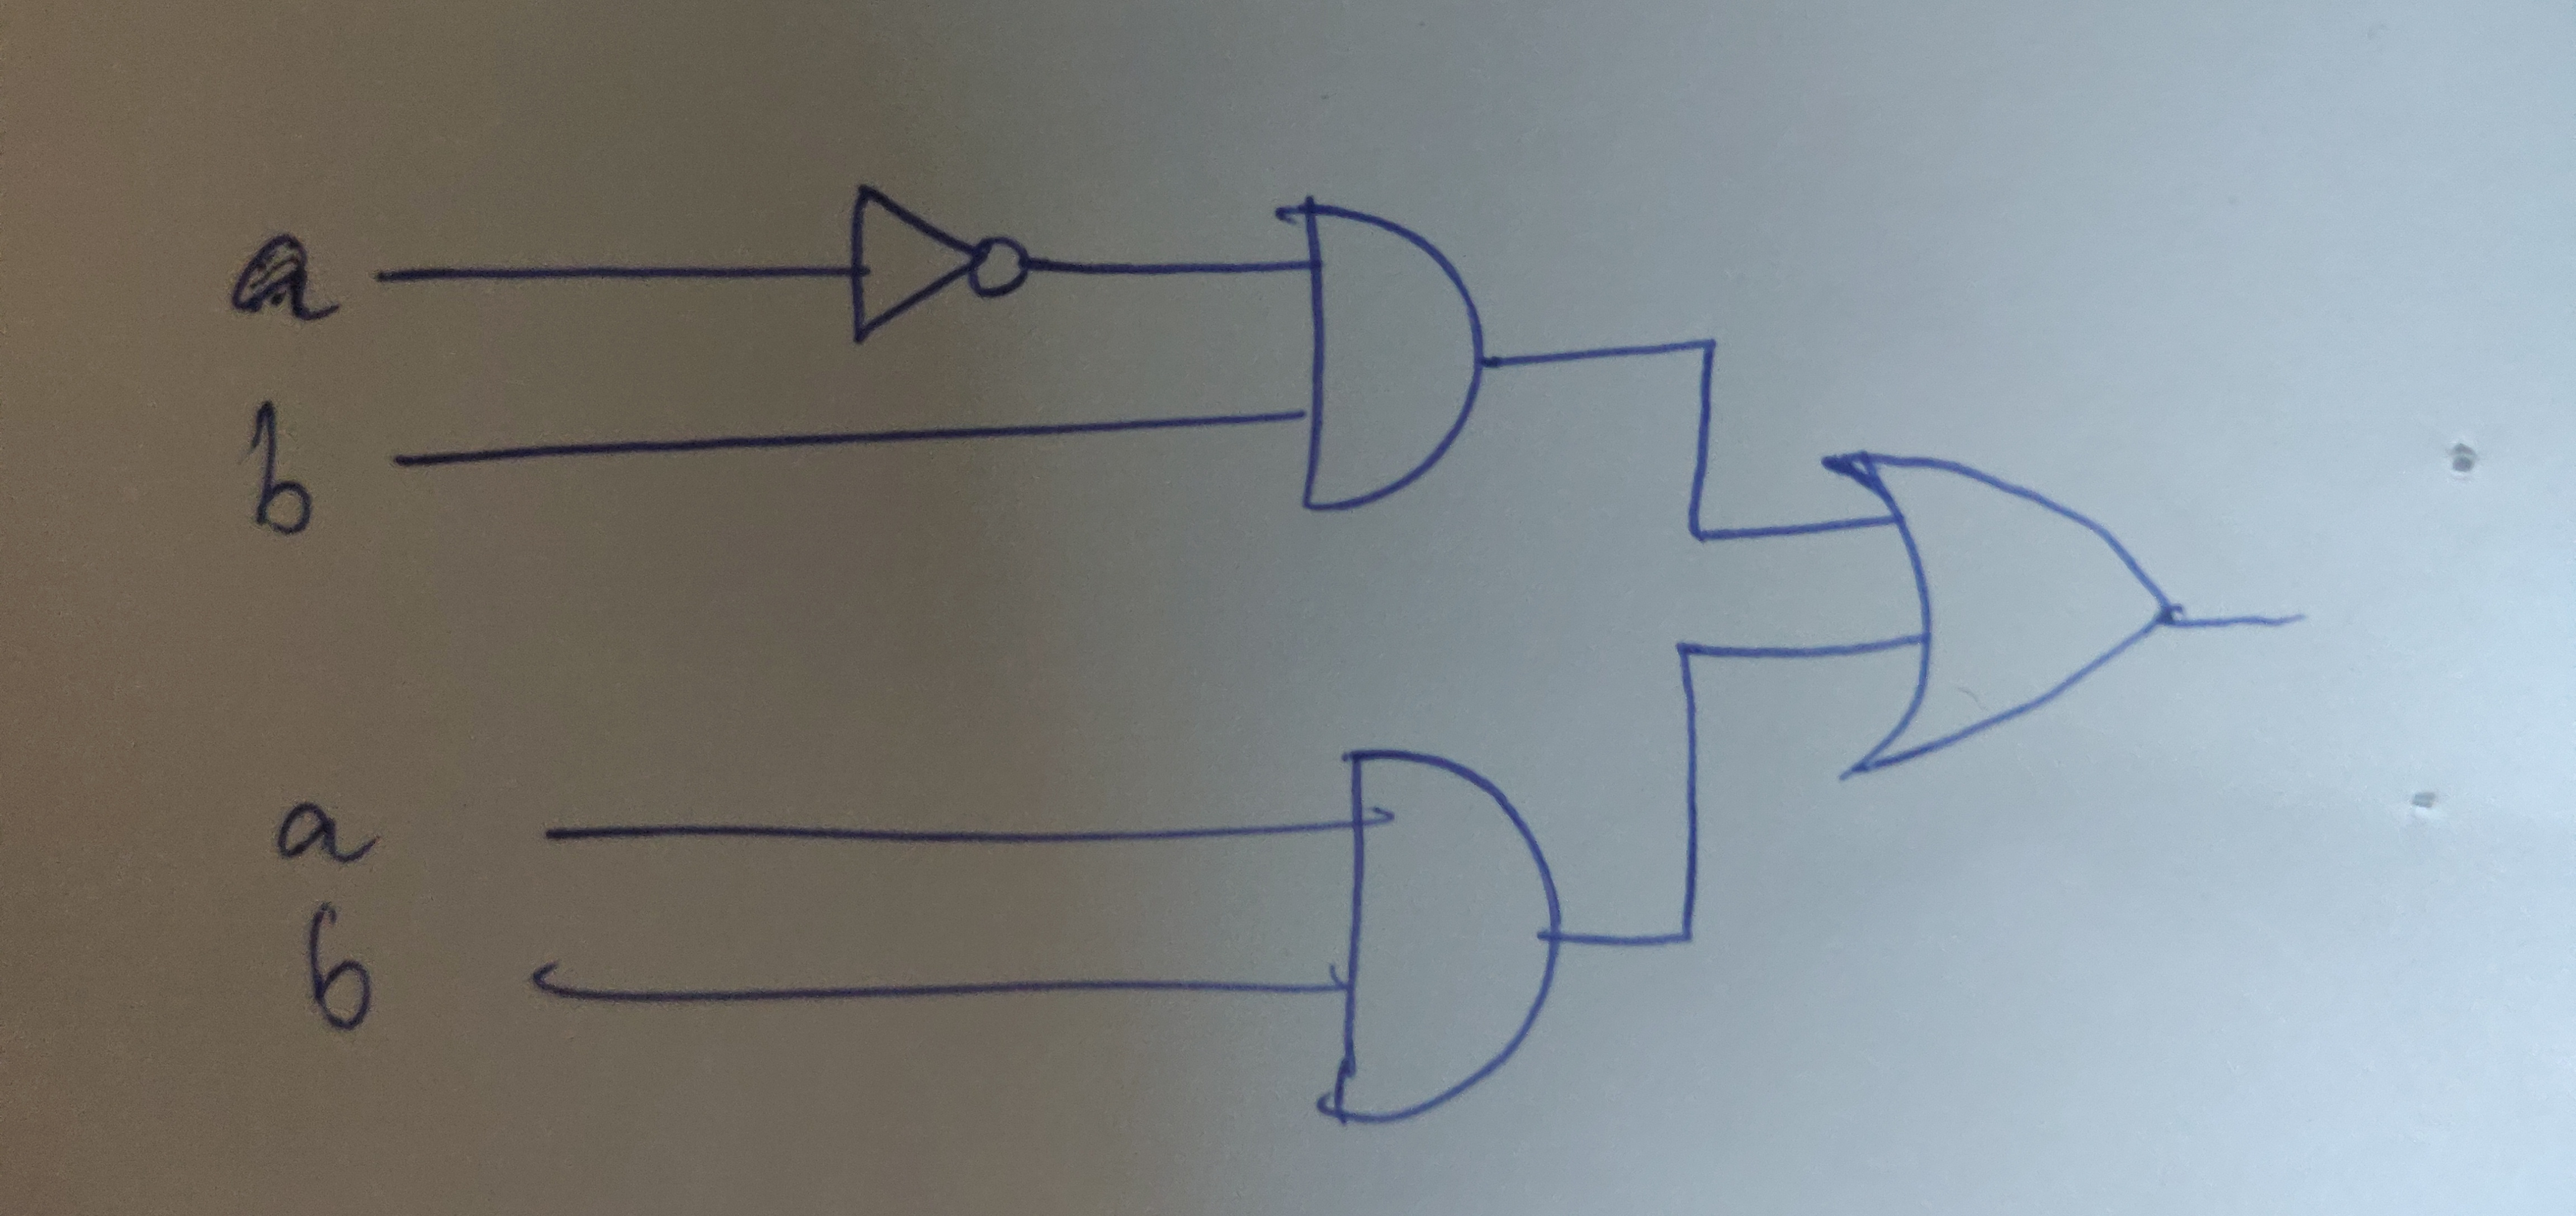and: (1285, 707, 1610, 1157), (1229, 171, 1544, 572)
not: (810, 154, 1074, 368)
or: (1801, 421, 2215, 802)
